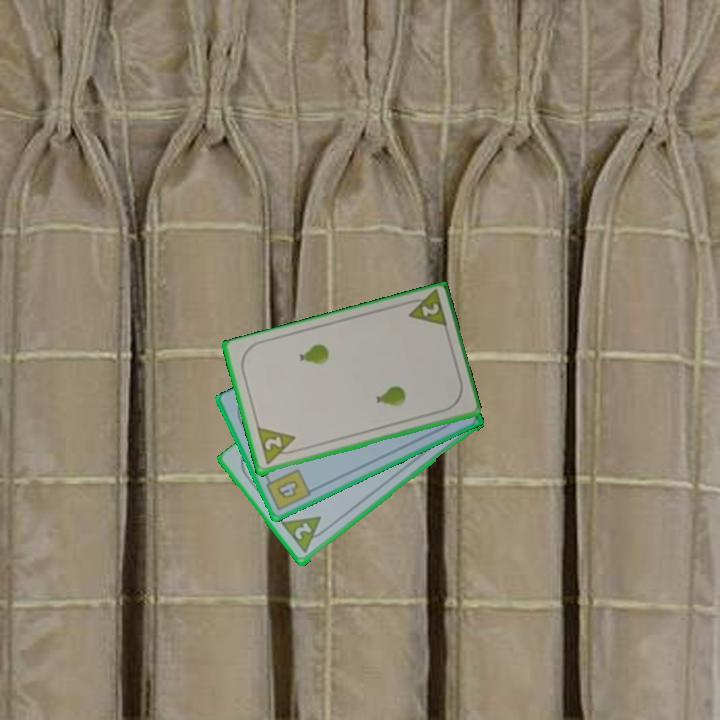2p: (279, 513, 332, 556), (401, 288, 450, 332), (253, 425, 301, 468)
4b: (261, 466, 314, 514)
